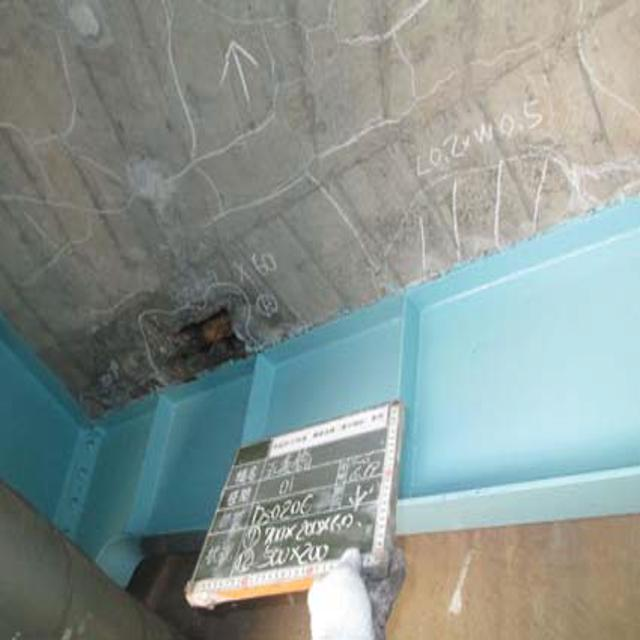spalling: (127, 296, 269, 386)
